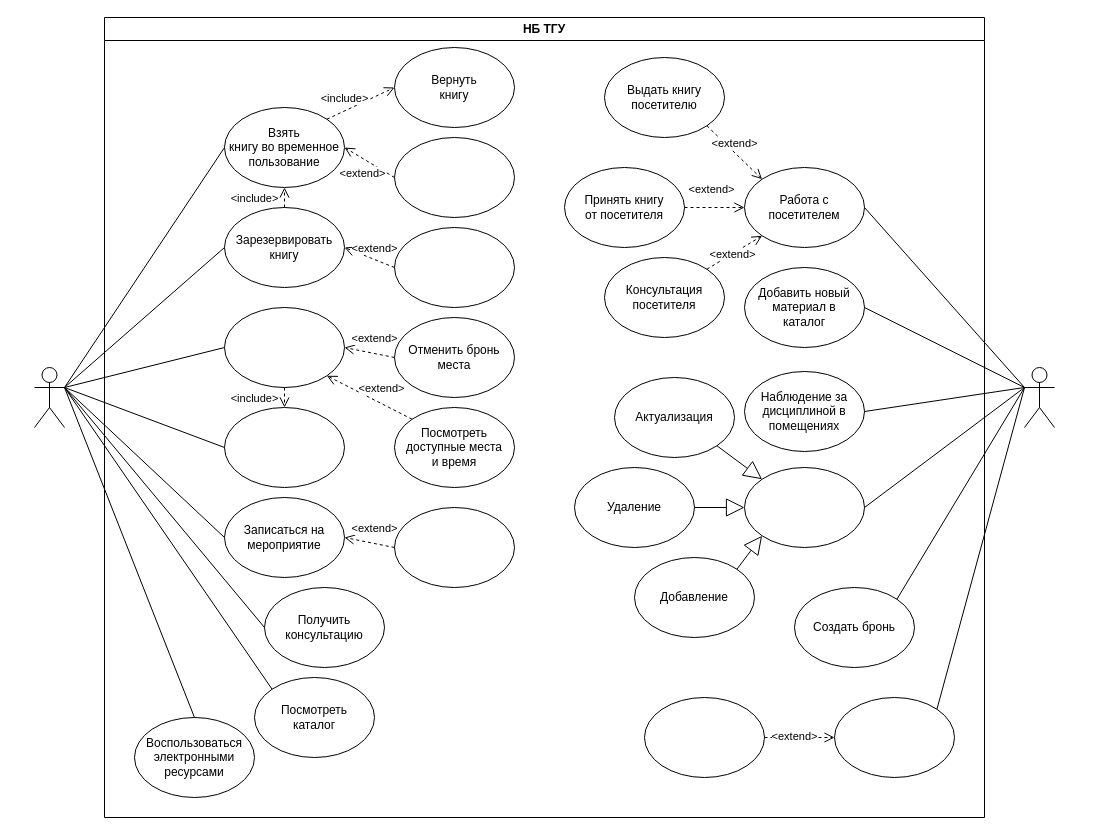
Image size: 1096x835. Some labels were removed from this diagram. The shapes that lost their labels are listed below. From the top down, each one's box as (x1, y1, x2, y2) in pixels, then its label:
(394, 136, 514, 218): Продлить срок использования
(394, 226, 514, 308): Отменить бронь книги
(224, 306, 344, 388): Зарезервировать место в библиотеке
(34, 366, 64, 428): Посетитель
(1024, 366, 1054, 428): Библиотекарь
(224, 406, 344, 488): Воспользоваться местом
(744, 466, 864, 548): Работа с электронными ресурсами
(394, 506, 514, 588): Посетить мероприятие
(644, 696, 764, 778): Удалить бронь
(834, 696, 954, 778): Изменить бронь
